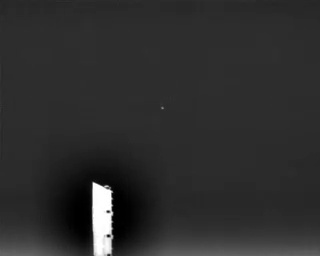BIRD: (159, 103, 166, 112)
